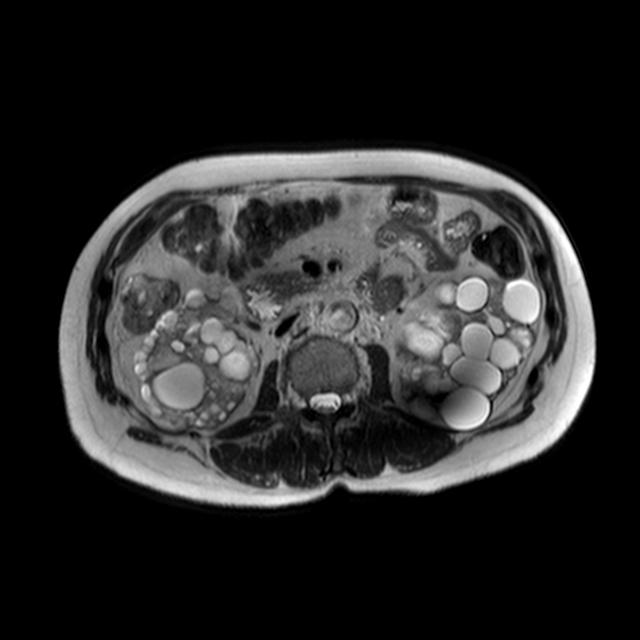sag: (130, 282, 260, 433)
sol: (393, 275, 542, 431)
